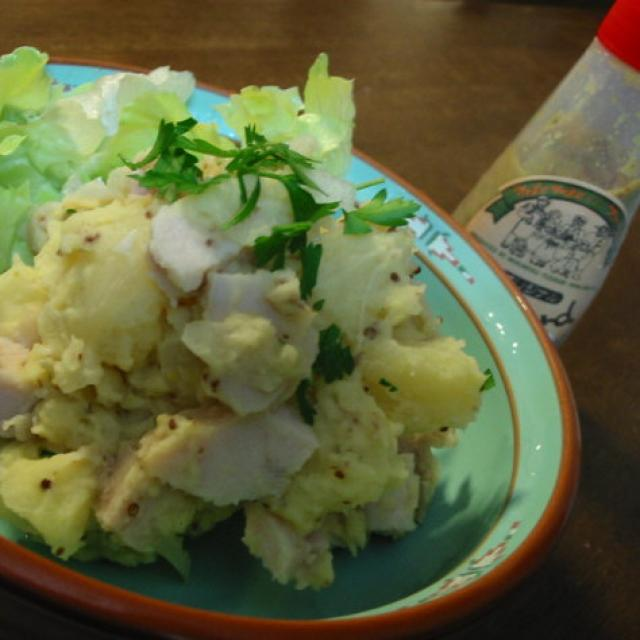蔬菜料理: (0, 32, 583, 639)
